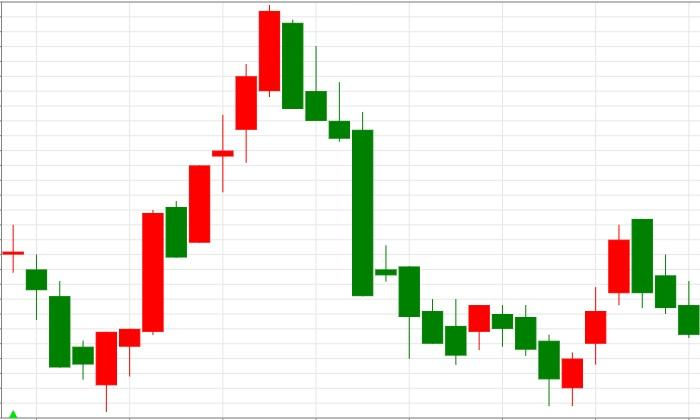bearish_engulfing_fall: (561, 219, 652, 407)
bullish_engulfing_rise: (3, 225, 117, 412)
